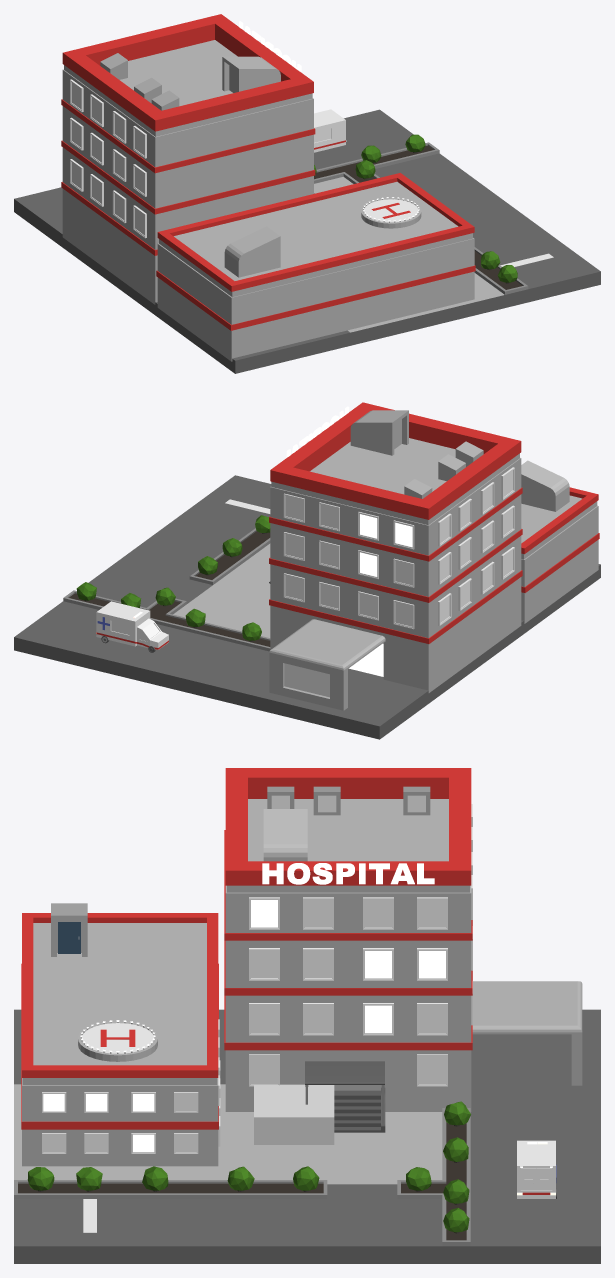
The model's file is Clinique.gltf.
3 views of the same model, one above another, from view 1: azimuth 30°, elevation 25°; view 2: azimuth 150°, elevation 25°; view 3: azimuth 270°, elevation 25° (orthographic). The views are drawn at different scales.
Visible parts, largest first — view 1: first case, second case, yard, window.011, door upstairs.001, door upstairs, bushes, for the helicopter, ventilation, car; view 2: first case, yard, window.011, second case, car, bushes, door upstairs, door upstairs.001, ventilation; view 3: yard, first case, second case, window.011, bushes, Cube, stairs, for the helicopter, door upstairs, Text, car, door upstairs.001 (+2 smaller).
Part boxes in pixels (x1,y1,x2,y2): first case: (61, 14, 315, 304); second case: (156, 173, 475, 361); yard: (14, 109, 600, 373); window.011: (70, 79, 146, 238); door upstairs.001: (224, 226, 280, 277); door upstairs: (222, 56, 280, 92); bushes: (314, 134, 517, 283); for the helicopter: (361, 197, 421, 228); ventilation: (100, 53, 179, 110); car: (314, 109, 346, 152); first case: (269, 402, 522, 710); yard: (14, 475, 600, 739); window.011: (283, 467, 514, 629); second case: (521, 487, 599, 623); car: (96, 601, 168, 649); bushes: (76, 515, 270, 641); door upstairs: (350, 410, 408, 455); door upstairs.001: (521, 460, 569, 511); ventilation: (404, 441, 483, 498); yard: (14, 1009, 600, 1263); first case: (224, 768, 582, 1111); second case: (21, 913, 218, 1166); window.011: (42, 804, 472, 1153); bushes: (27, 1101, 470, 1233); Cube: (254, 1084, 334, 1144); stairs: (305, 1061, 385, 1132); for the helicopter: (78, 1020, 157, 1061); door upstairs: (263, 809, 307, 861); Text: (262, 863, 434, 884); car: (517, 1140, 555, 1198); door upstairs.001: (51, 903, 87, 956).
Size of the model in its own units: 14.08 by 8.52 by 14.67.
